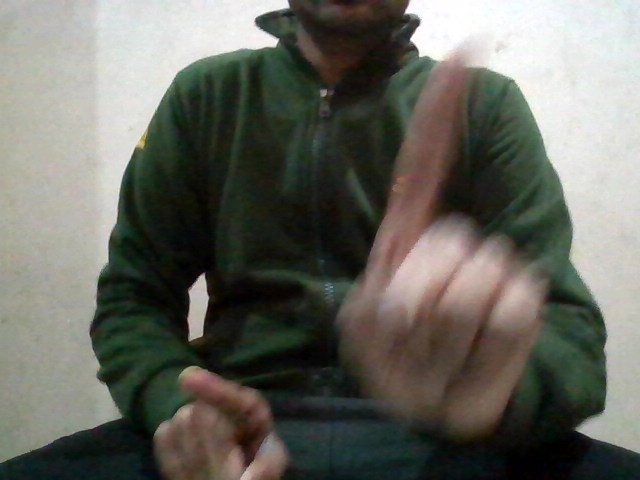D: (350, 28, 528, 429)
